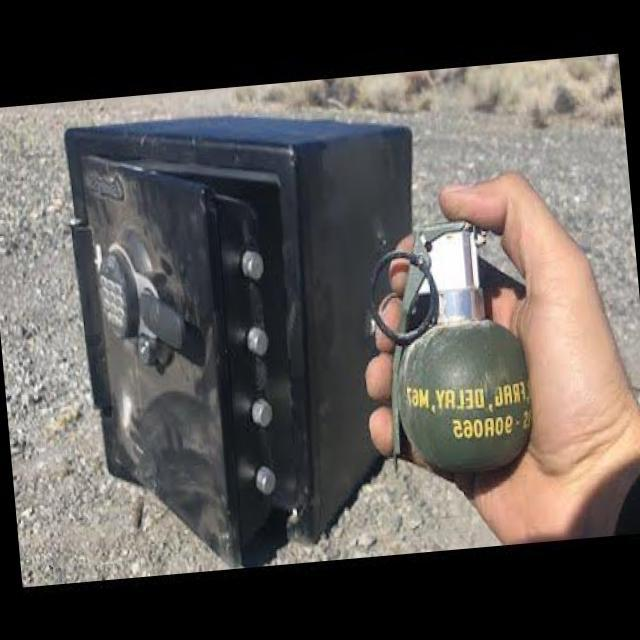grenade: (354, 198, 544, 489)
